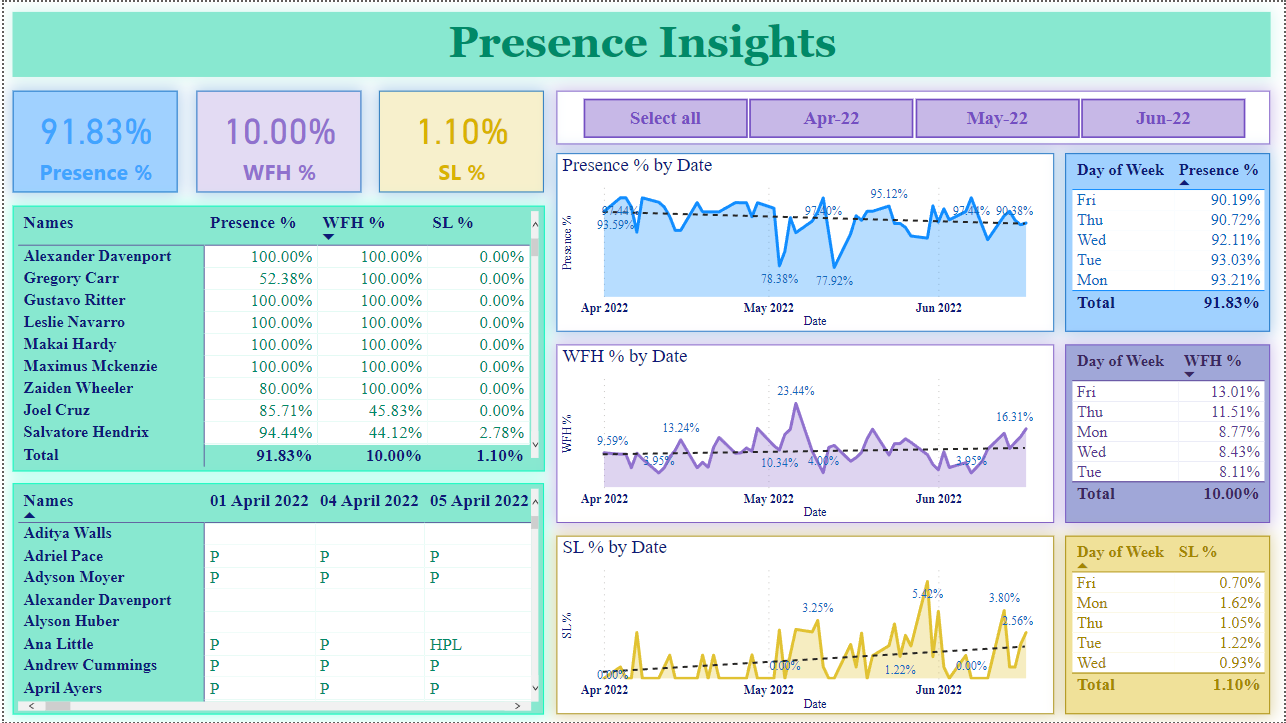

What the dashboard file says about the page in this screenshot:
{"tool":"powerbi","page":{"name":"Page 1","canvas":[1280,720],"ordinal":0},"visuals":[{"type":"card","fields":{"Values":["Measure Table.Presence %"]},"box":[8.8,88.8,165,101.2],"z":0},{"type":"slicer","fields":{"Values":["Final Data.Month"]},"box":[552.5,88.8,713.8,53.8],"z":1000},{"type":"card","fields":{"Values":["Measure Table.WFH %"]},"box":[192.5,88.8,165,101.2],"z":2000},{"type":"card","fields":{"Values":["Measure Table.SL %"]},"box":[375,88.8,165,101.2],"z":3000},{"type":"pivotTable","fields":{"Rows":["Final Data.Names"],"Values":["Measure Table.Presence %","Measure Table.WFH %","Measure Table.SL %"]},"box":[8.6,204.1,531.7,265.3],"z":4000},{"type":"textbox","title":"Presence Insights","box":[8.8,10,1257.5,65],"z":5000},{"type":"pivotTable","fields":{"Rows":["Final Data.Names"],"Values":["Min(Final Data.Value)"],"Columns":["Final Data.Date"]},"box":[8.8,481.2,531.2,231.2],"z":6000},{"type":"areaChart","fields":{"Category":["Final Data.Date"],"Y":["Measure Table.Presence %"]},"box":[552.5,151.2,497.5,178.8],"z":7000},{"type":"areaChart","fields":{"Category":["Final Data.Date"],"Y":["Measure Table.WFH %"]},"box":[552.5,342.5,497.5,178.8],"z":8000},{"type":"areaChart","fields":{"Category":["Final Data.Date"],"Y":["Measure Table.SL %"]},"box":[552.5,533.8,497.5,178.8],"z":9000},{"type":"tableEx","fields":{"Values":["Final Data.Day of Week","Measure Table.Presence %"]},"box":[1061.2,151.2,205,178.8],"z":10000},{"type":"tableEx","fields":{"Values":["Final Data.Day of Week","Measure Table.WFH %"]},"box":[1061.2,342.5,205,178.8],"z":11000},{"type":"tableEx","fields":{"Values":["Final Data.Day of Week","Measure Table.SL %"]},"box":[1061.2,533.8,205,178.8],"z":12000}]}

Visuals, with their boxes in screenshot pixels (x1, y1, x2, y2), scaled from the page's 1280x720 canvas onto the 1286x723 screenshot:
card - Measure Table.Presence %: 9:89:175:191
slicer - Final Data.Month: 555:89:1272:143
card - Measure Table.WFH %: 193:89:359:191
card - Measure Table.SL %: 377:89:543:191
pivotTable - Final Data.Names x Measure Table.Presence %: 9:205:543:471
"Presence Insights" textbox: 9:10:1272:75
pivotTable - Final Data.Names x Min(Final Data.Value): 9:483:543:715
areaChart - Final Data.Date x Measure Table.Presence %: 555:152:1055:331
areaChart - Final Data.Date x Measure Table.WFH %: 555:344:1055:523
areaChart - Final Data.Date x Measure Table.SL %: 555:536:1055:716
tableEx - Final Data.Day of Week x Measure Table.Presence %: 1066:152:1272:331
tableEx - Final Data.Day of Week x Measure Table.WFH %: 1066:344:1272:523
tableEx - Final Data.Day of Week x Measure Table.SL %: 1066:536:1272:716
